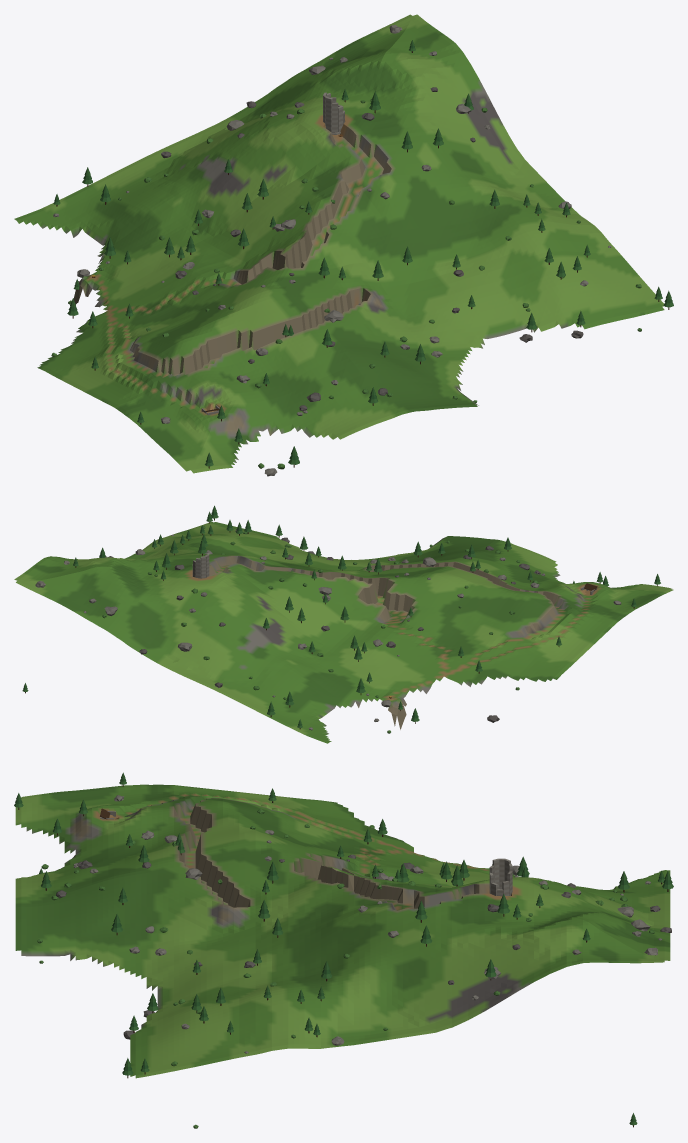
The model's file is arch_isl_lantern_rock.glb.
The picture shows the model from 3 angles, top to bottom: view 1: azimuth 30°, elevation 25°; view 2: azimuth 150°, elevation 25°; view 3: azimuth 270°, elevation 25°; orthographic projection. The views are drawn at different scales.
Visible parts, largest first — view 1: geometry_0; view 2: geometry_0; view 3: geometry_0.
Part boxes in pixels (x1,y1,x2,y2): geometry_0: (14,14,673,476); geometry_0: (14,505,673,743); geometry_0: (14,772,673,1128).
Size of the model in its own units: 242 by 73.37 by 242.
